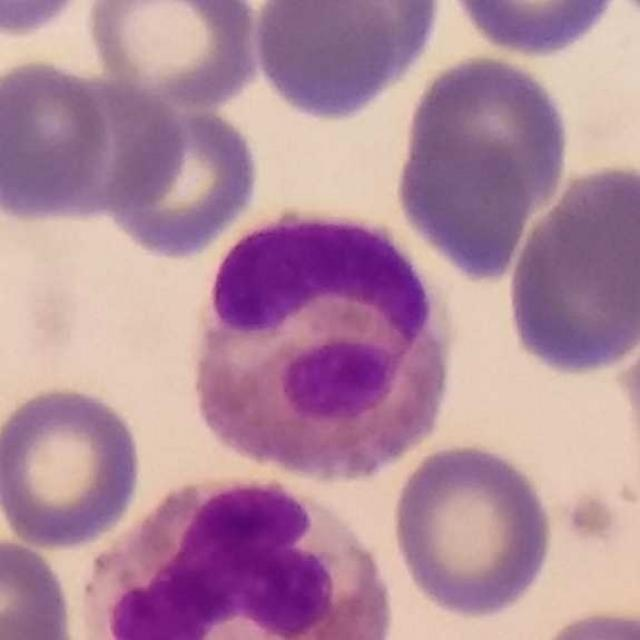eosino: (195, 216, 452, 479), (68, 478, 388, 640)
